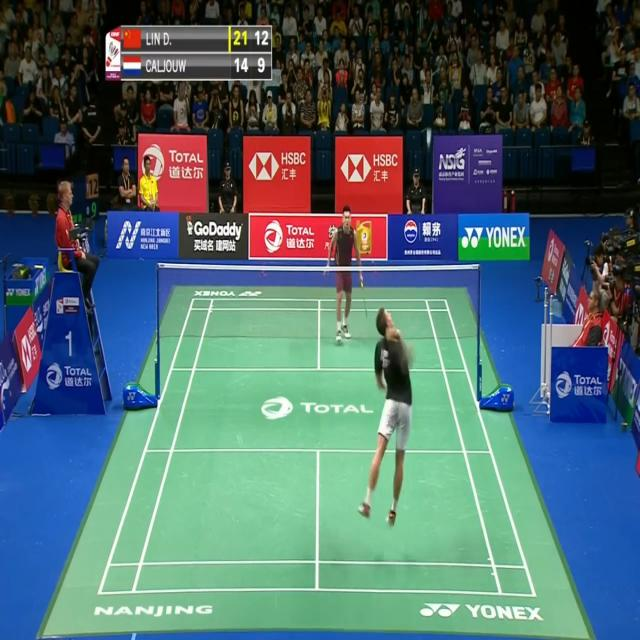Player1: (357, 303, 419, 533)
Player2: (320, 200, 370, 348)
